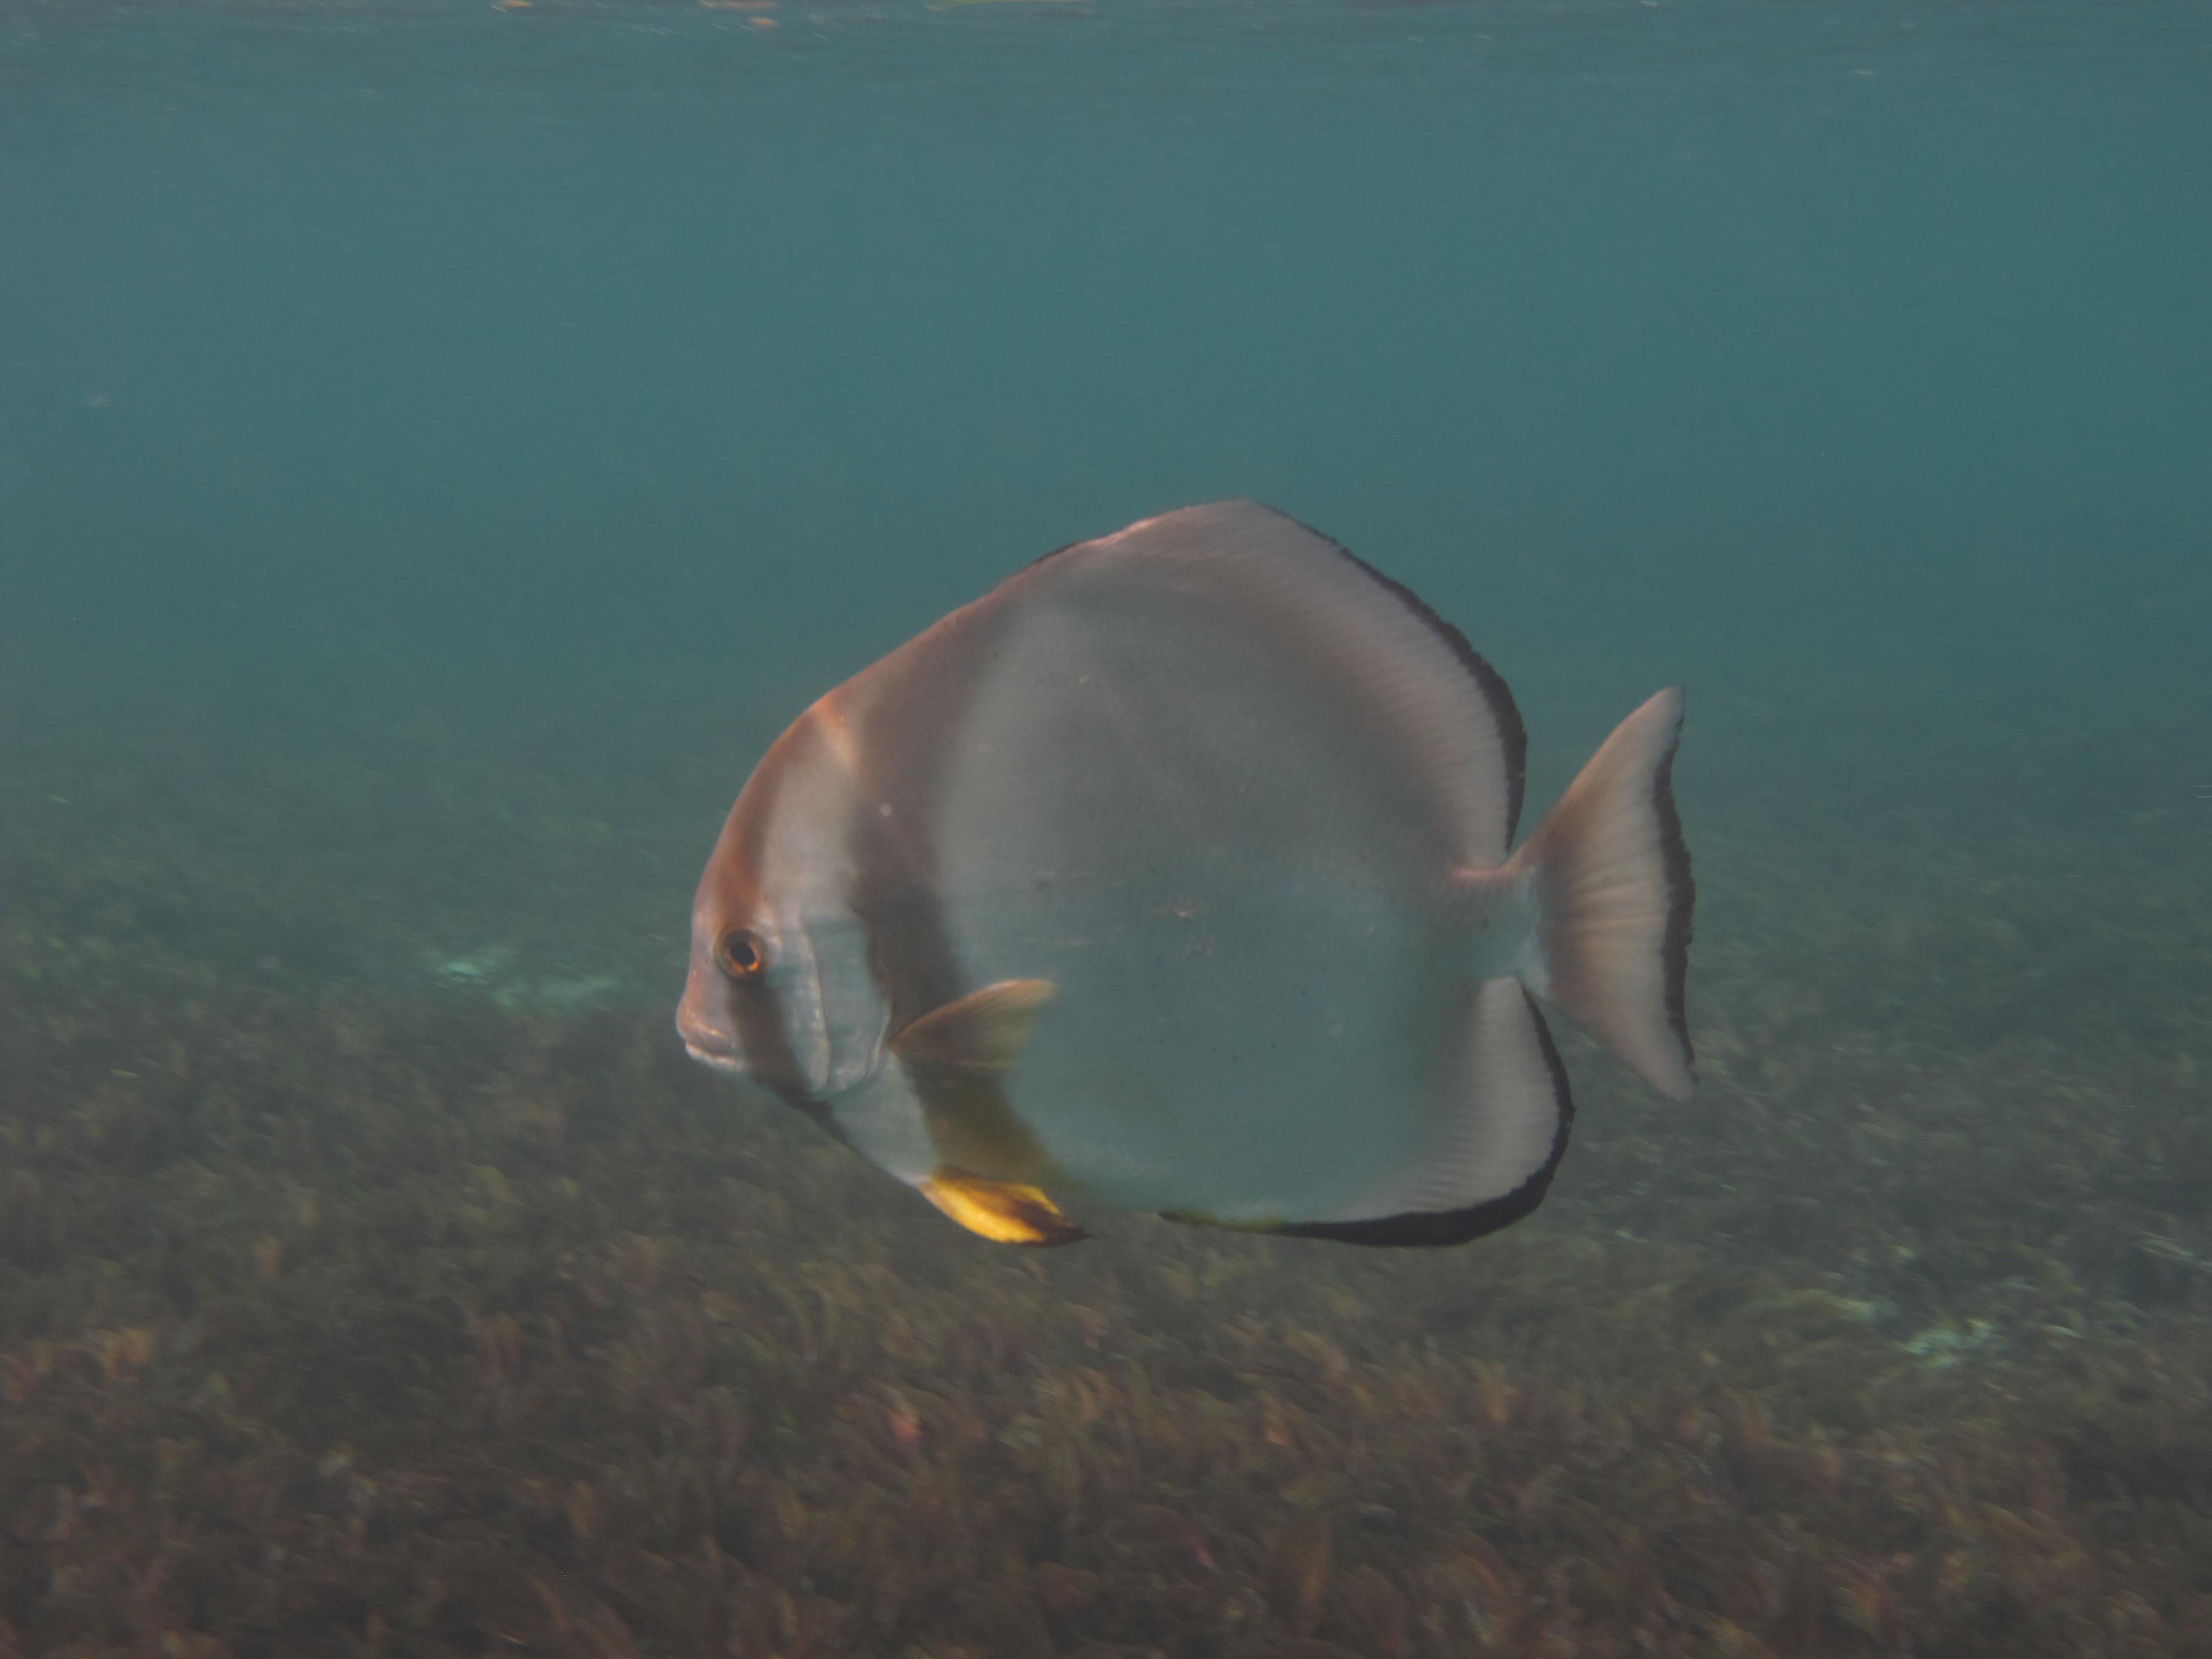Fish: (662, 471, 1724, 1270)
